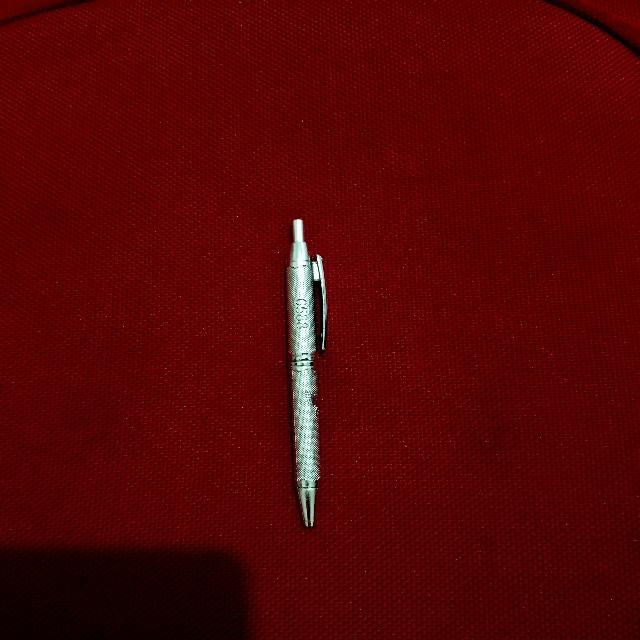signature pen: (287, 219, 326, 526)
